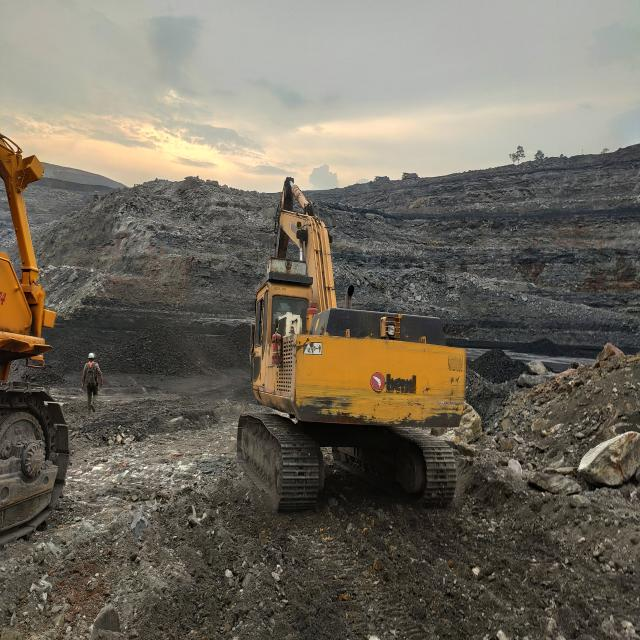buldozerpayloadergrader: (0, 139, 56, 356), (0, 387, 68, 532)
excavator: (236, 178, 467, 515)
